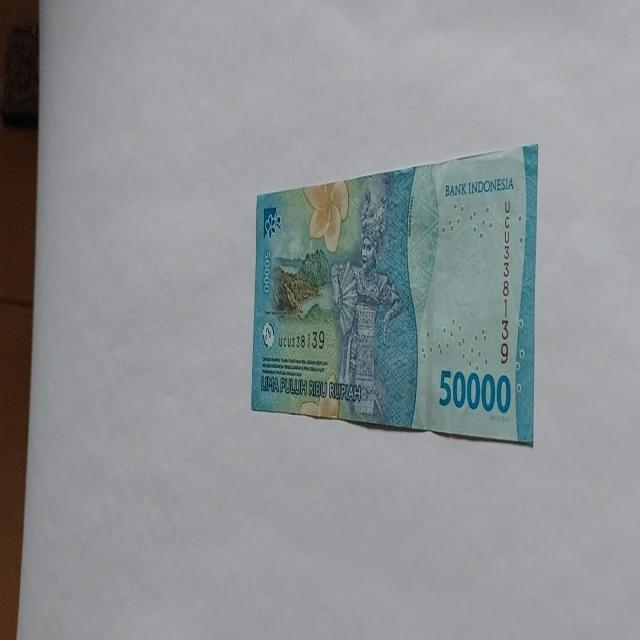lima puluh ribu rupiah: (250, 141, 538, 447)
